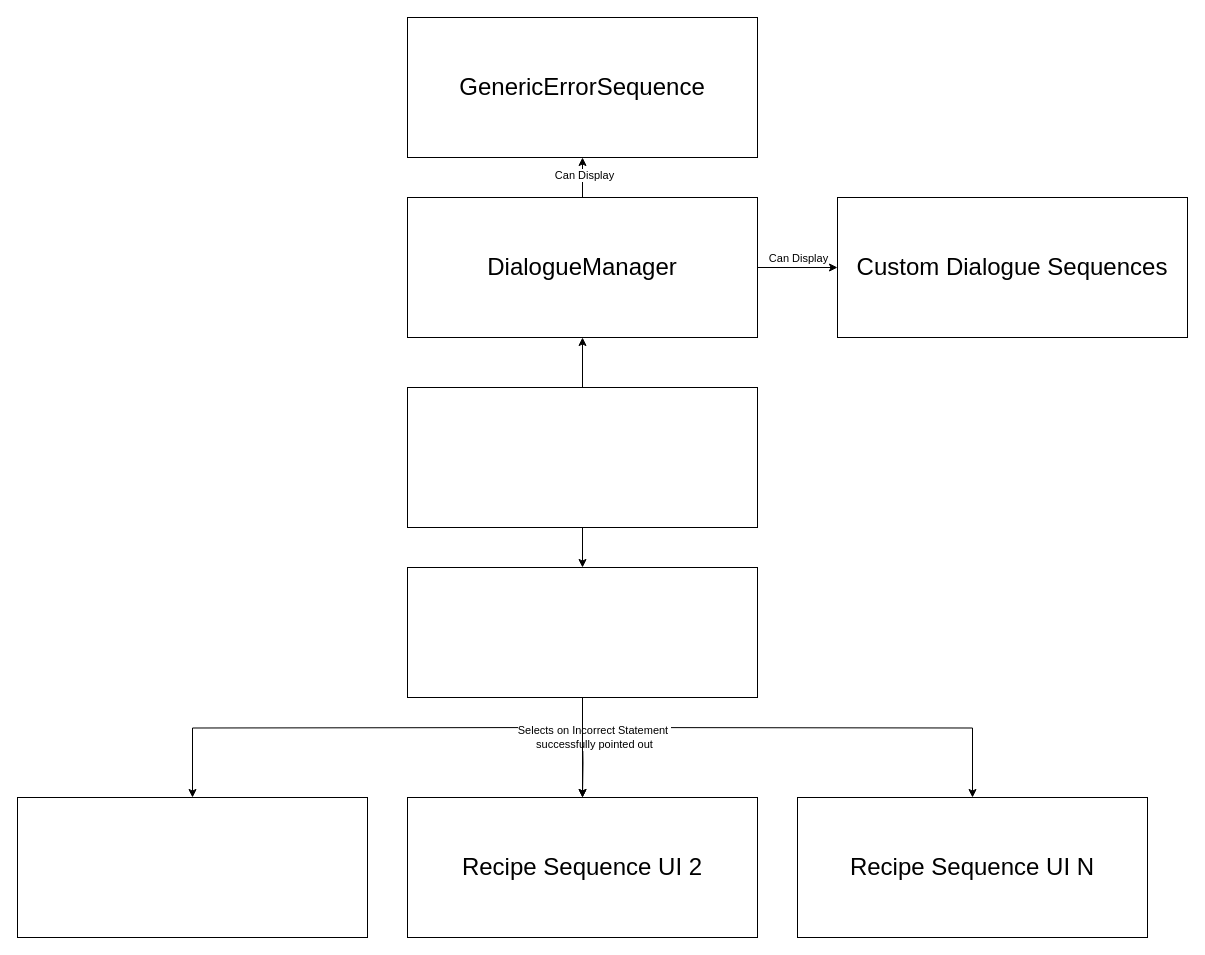
Image size: 1205x955. Some labels were removed from this diagram. Each missing label, with the centre of its shape:
Game Controller: the point at 582,457
Recipe Sequence UI 1: the point at 192,867
SequenceController: the point at 582,632
